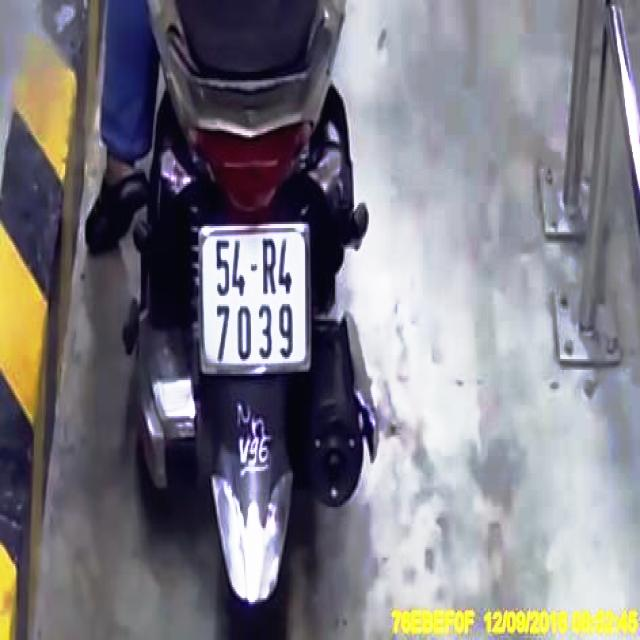license_plate: (202, 232, 309, 368)
